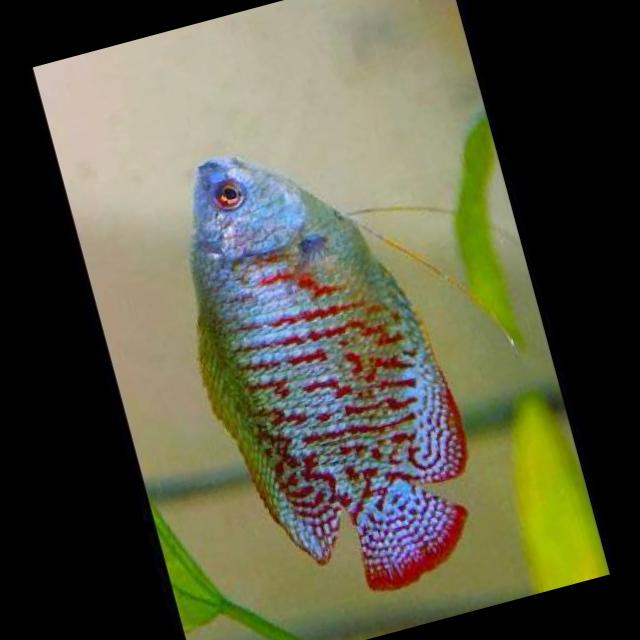Gourami: (136, 110, 504, 624)
